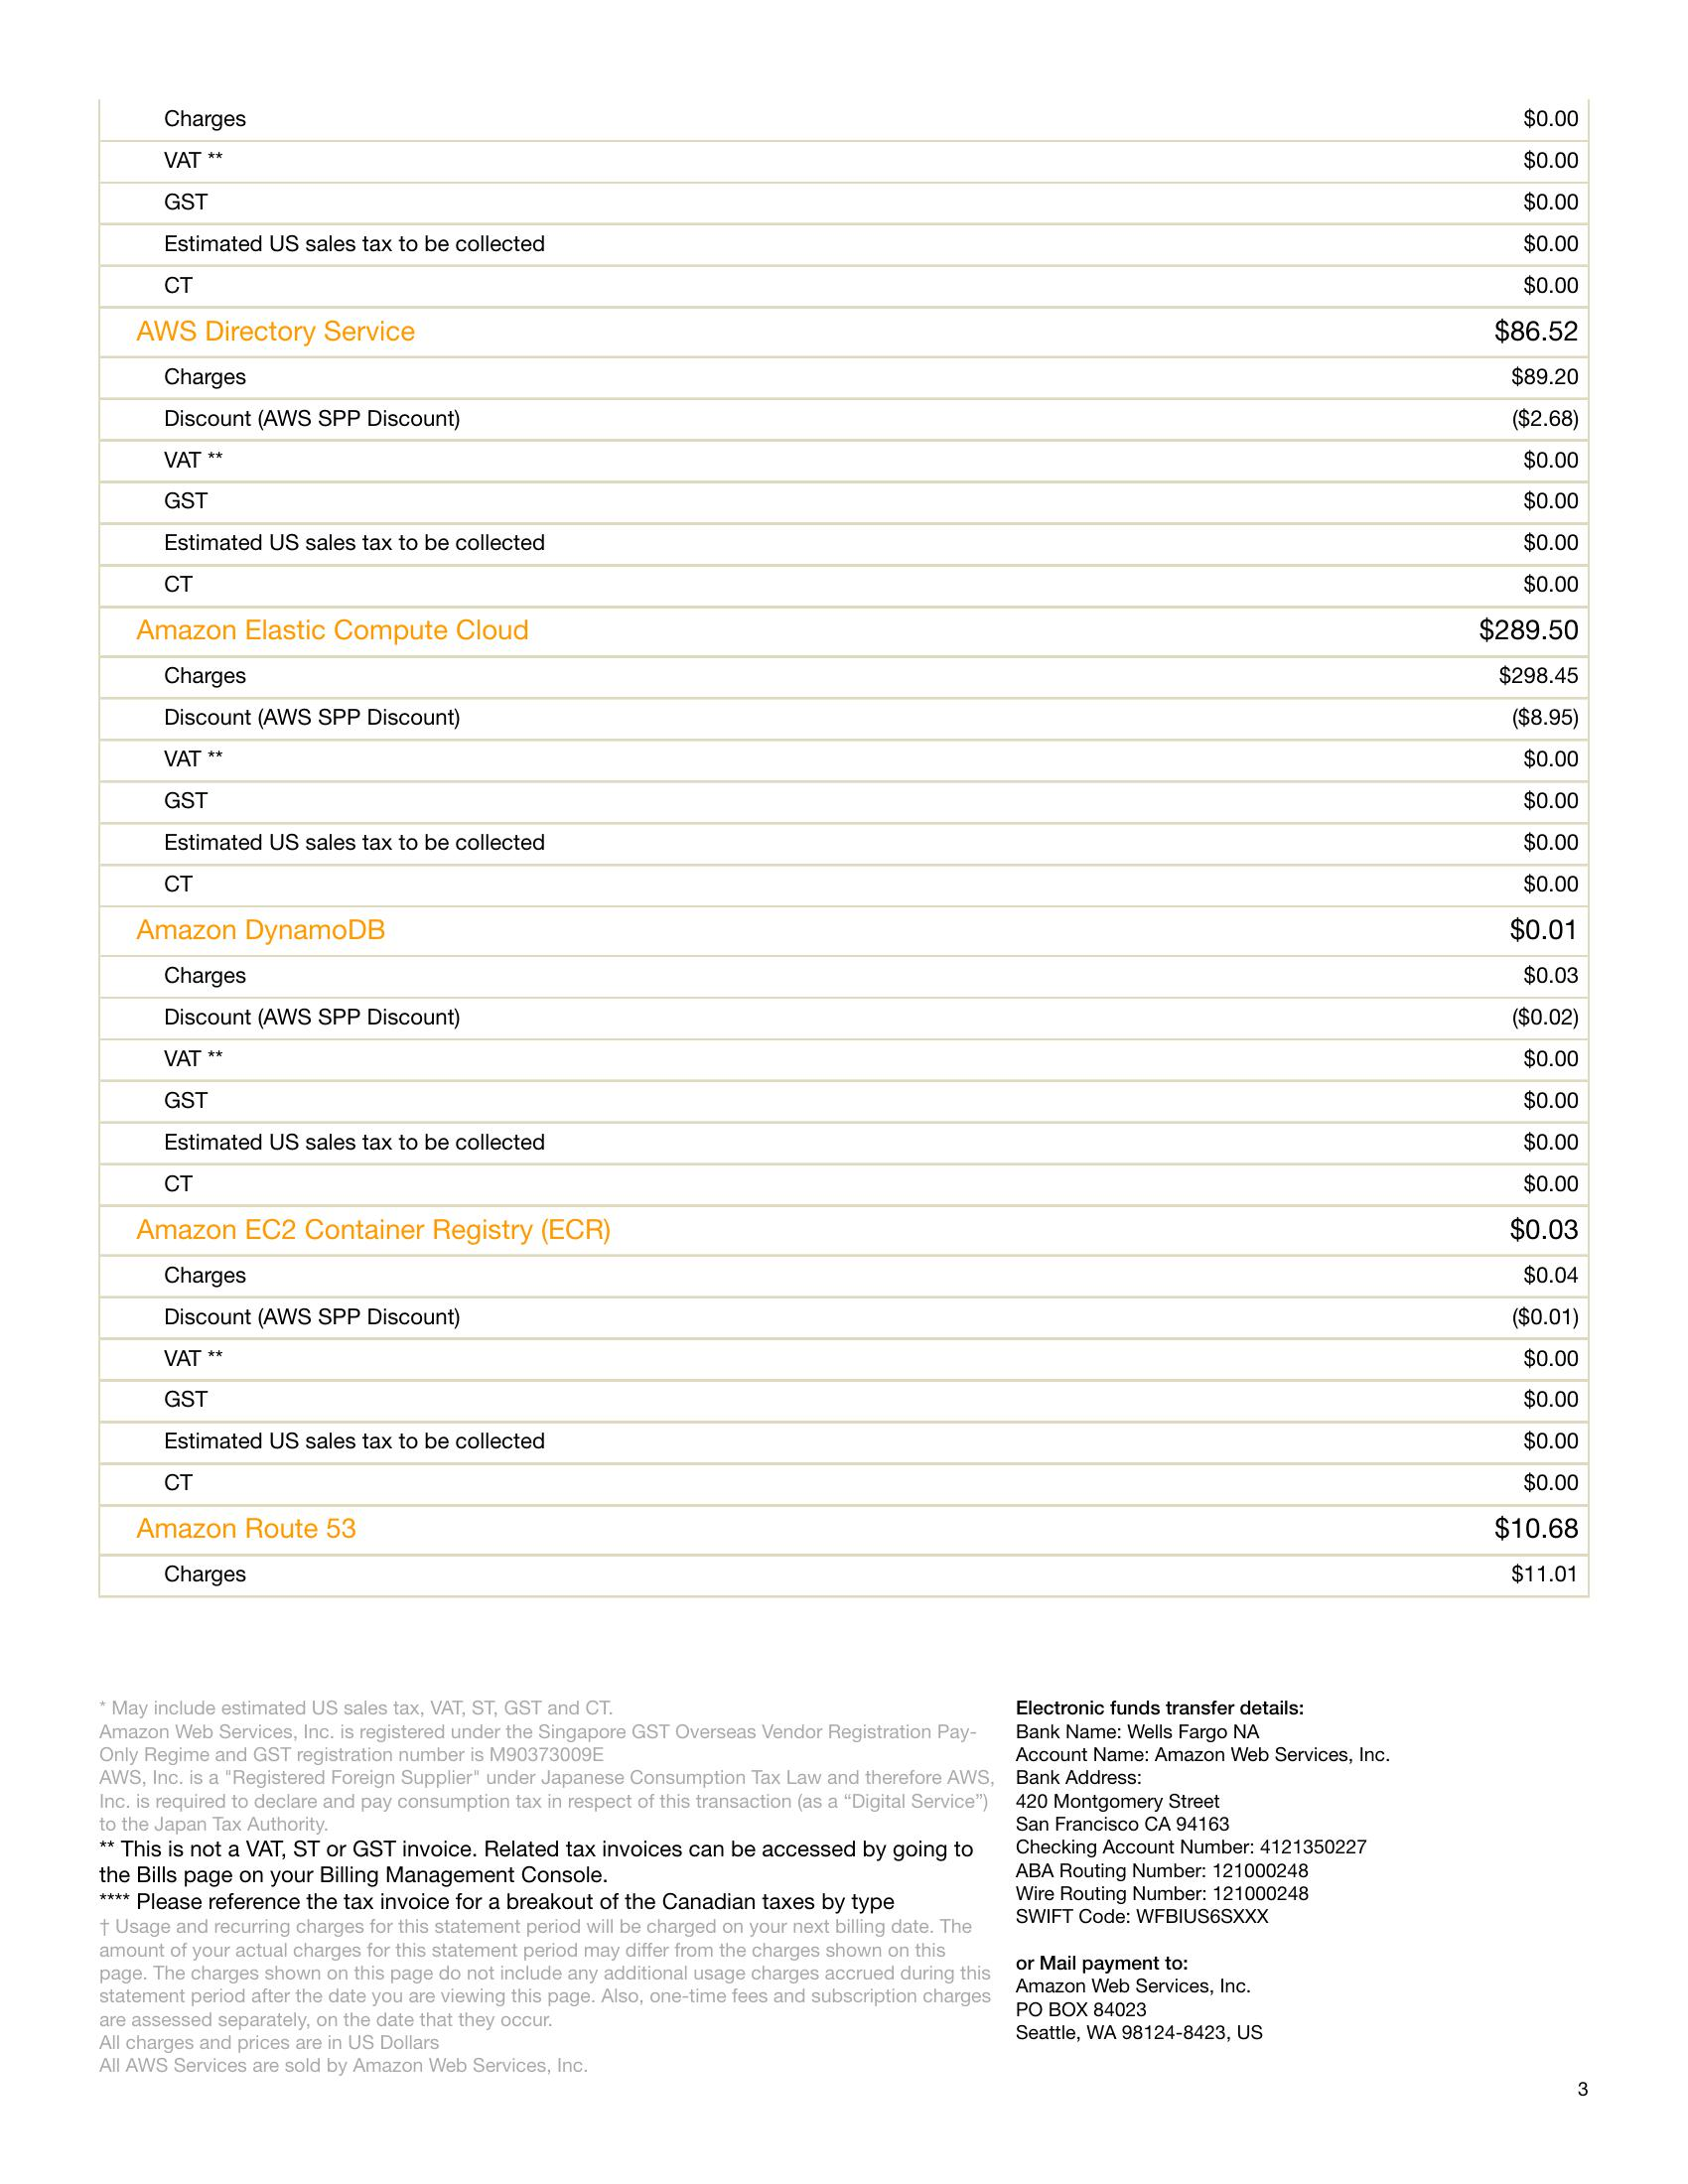table: (67, 69, 1614, 1617)
